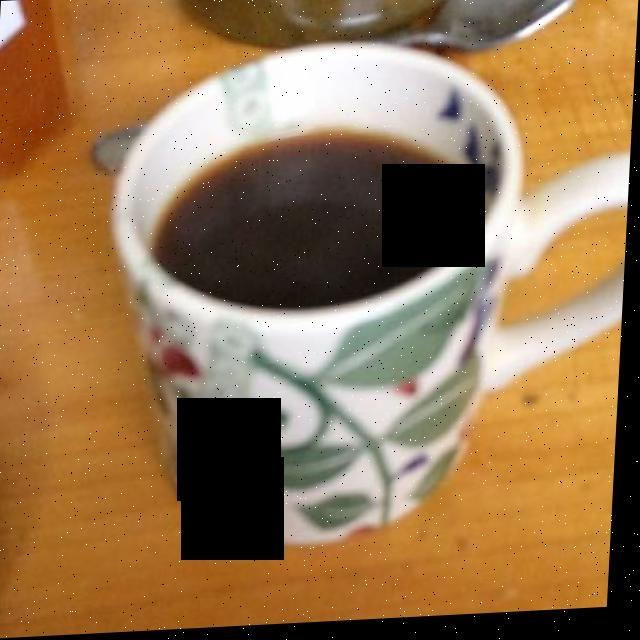coffee: (156, 134, 480, 309)
